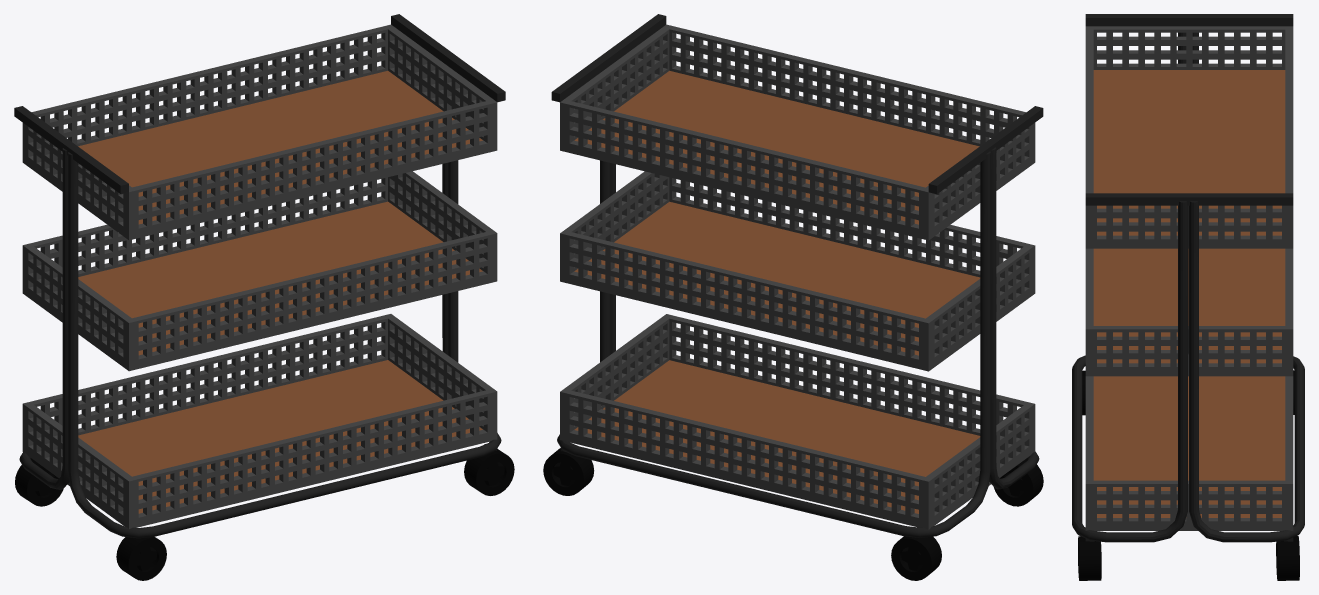
Rendered from Trolley_06.glb.
3 views of the same model, side by side, from view 1: azimuth 30°, elevation 25°; view 2: azimuth 150°, elevation 25°; view 3: azimuth 270°, elevation 25° (orthographic). The views are drawn at different scales.
Parts seen in each view (by area): view 1: Mesh_Trolley_06; view 2: Mesh_Trolley_06; view 3: Mesh_Trolley_06.
Part boxes in pixels (x1,y1,x2,y2): Mesh_Trolley_06: (14,14,514,580); Mesh_Trolley_06: (543,14,1043,580); Mesh_Trolley_06: (1072,14,1304,580).
Bounding box in the file's own units: 0.8534 × 0.8253 × 0.4485.
1 material, 1 textured.
